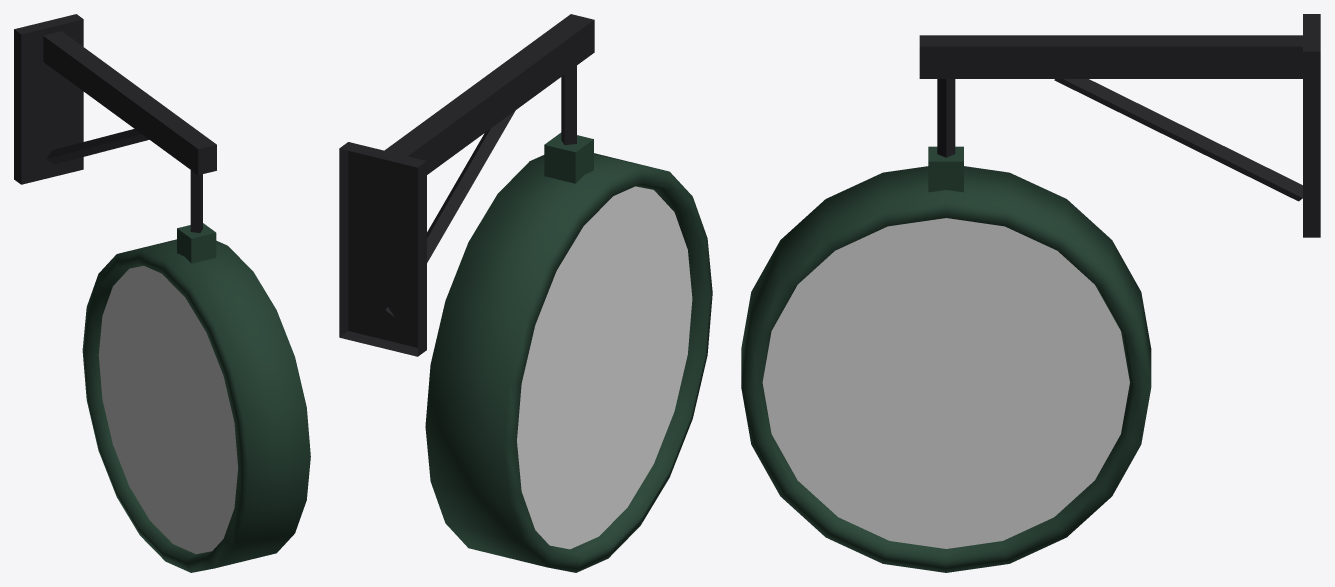
Rendered from platform_clock.glb.
3 views of the same model, side by side, from view 1: azimuth 30°, elevation 25°; view 2: azimuth 150°, elevation 25°; view 3: azimuth 270°, elevation 25° (orthographic). The views are drawn at different scales.
Parts seen in each view (by area): view 1: platform_clock; view 2: platform_clock; view 3: platform_clock.
Boxes of the visible parts, left/top/right/bottom form: platform_clock: left=14, top=14, right=310, bottom=572; platform_clock: left=339, top=14, right=712, bottom=572; platform_clock: left=741, top=14, right=1320, bottom=572.
Size of the model in its own units: 0.112 by 0.645 by 0.65.
